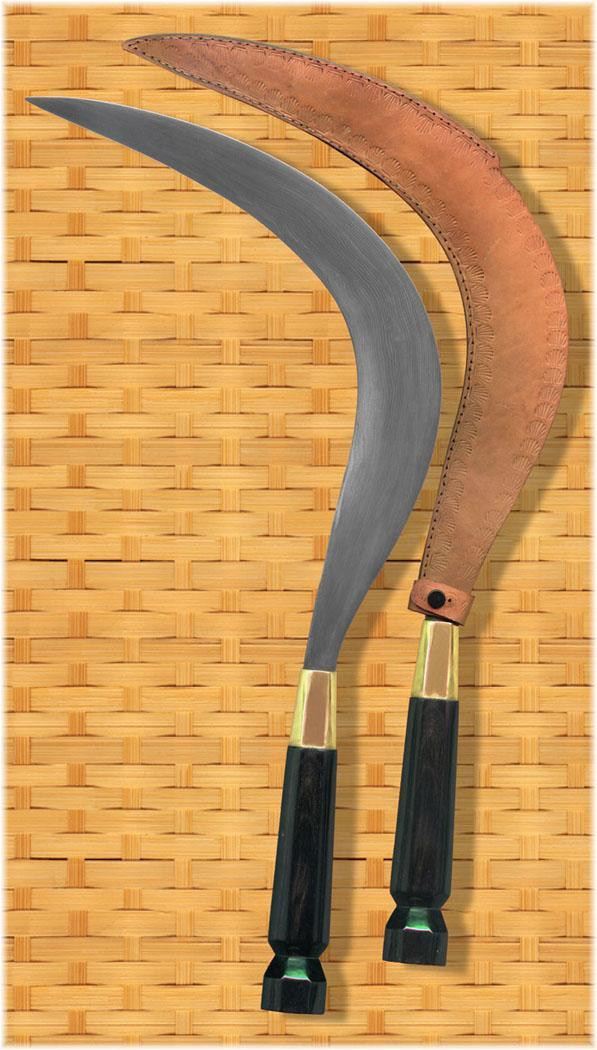foice: (118, 20, 566, 953), (15, 77, 450, 1028)
